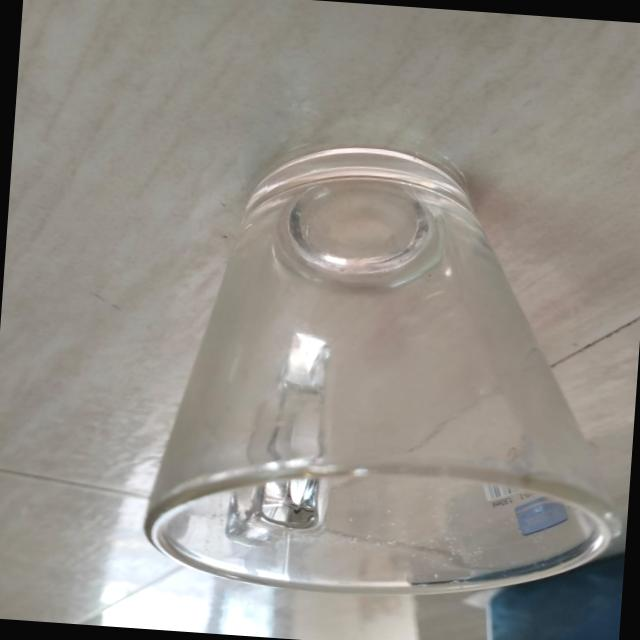glass-VX4N: (127, 123, 640, 614)
